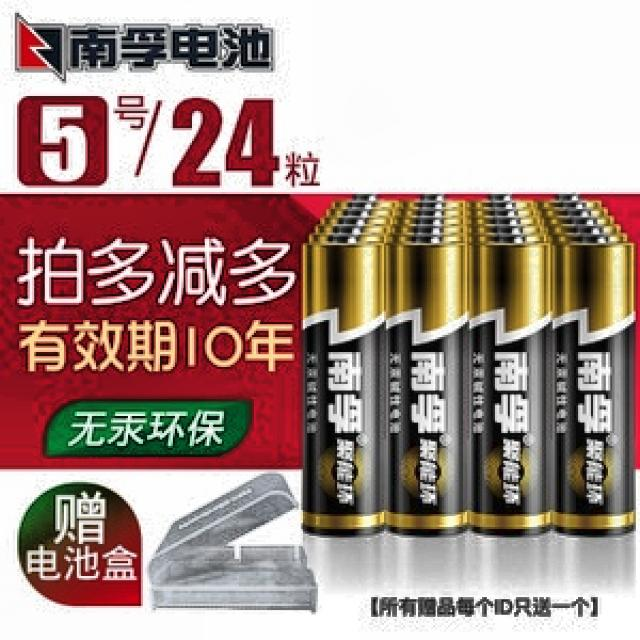Non-Valuable Waste - Batteries: (304, 195, 635, 535)
